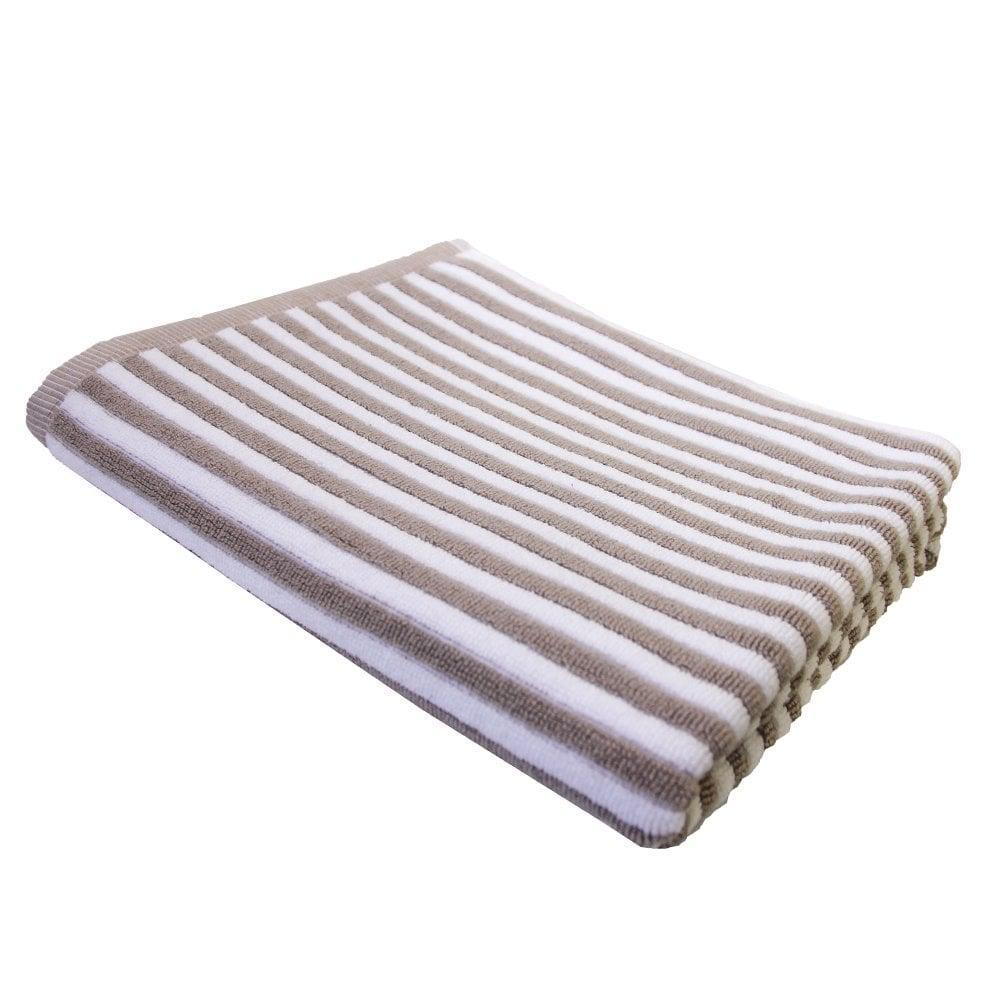towel: (38, 227, 1000, 840)
